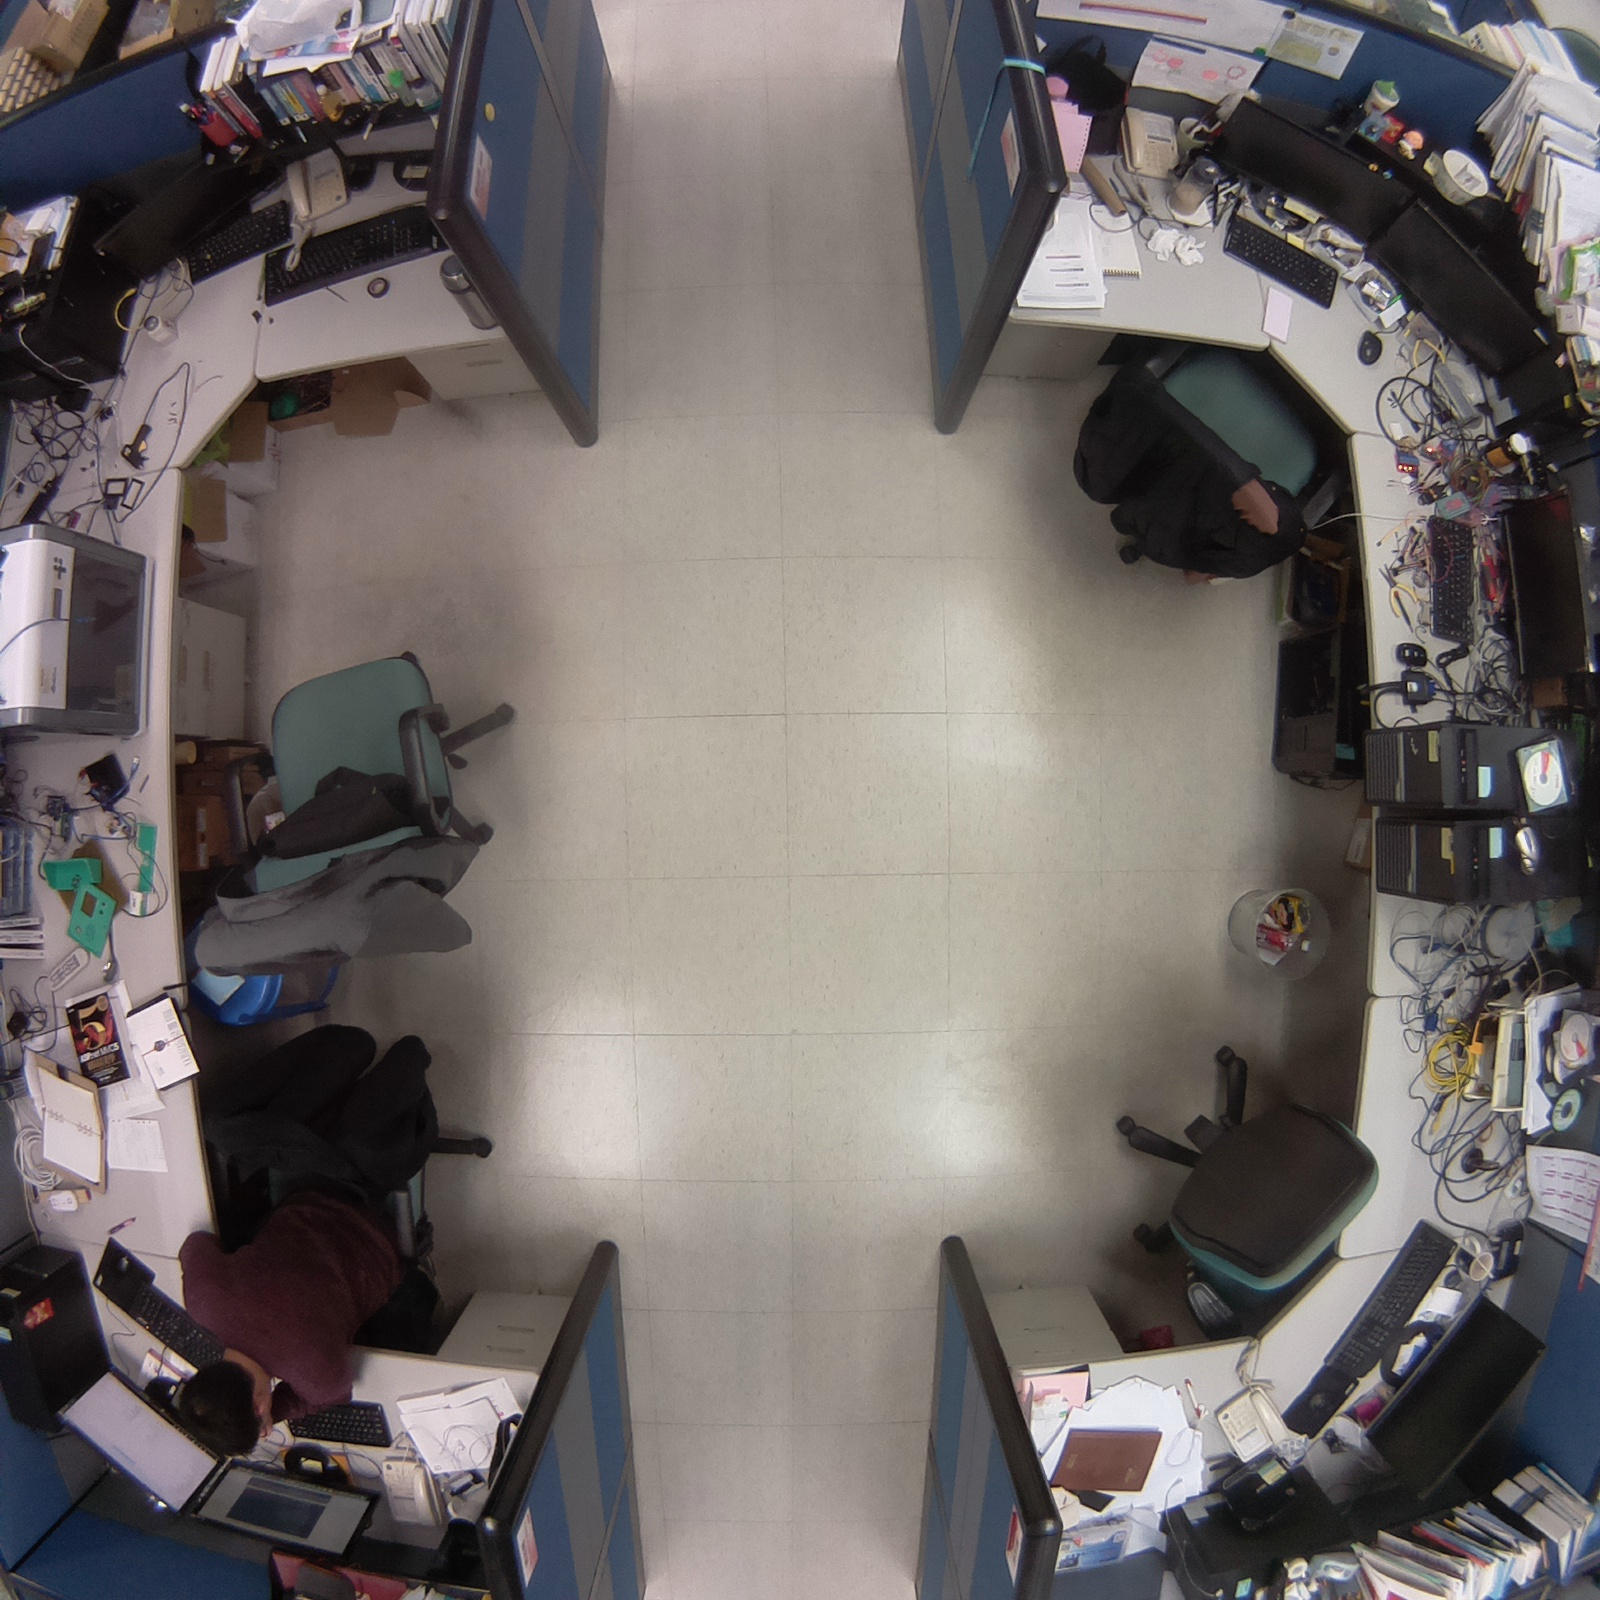chair: (174, 632, 541, 998), (1097, 1033, 1393, 1344), (1062, 327, 1354, 593)
sitting: (149, 1015, 505, 1471)
